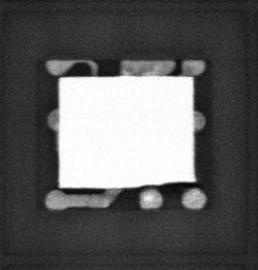DIE_BROKEN: (133, 179, 199, 190)
